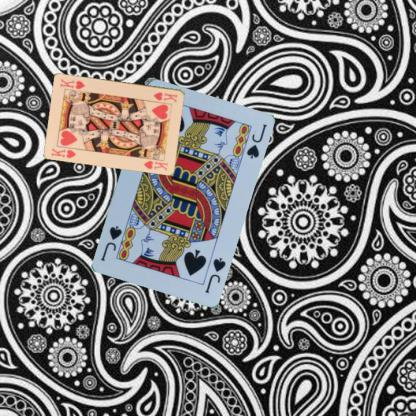Js: (202, 254, 227, 294)
Kh: (49, 145, 78, 159), (151, 89, 178, 103)
